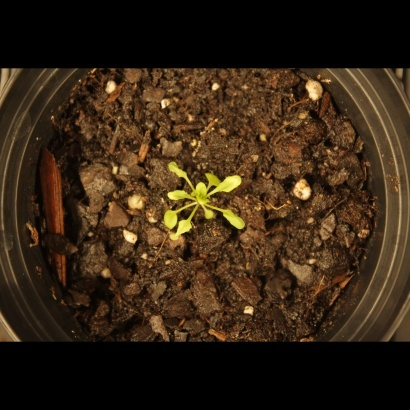leaf: (165, 158, 194, 185), (161, 185, 191, 208), (216, 173, 245, 196), (223, 208, 249, 233), (203, 167, 226, 190), (157, 209, 180, 232), (170, 217, 193, 240), (188, 183, 211, 206), (196, 207, 219, 230)
